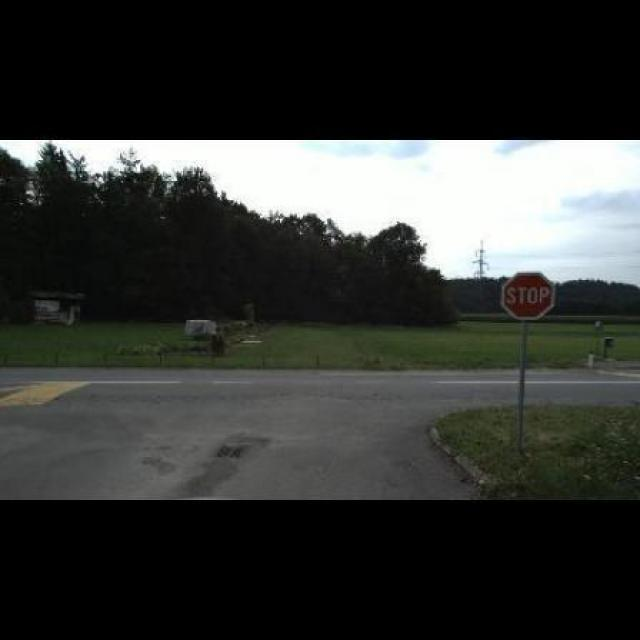stop_sign: (502, 272, 557, 320)
